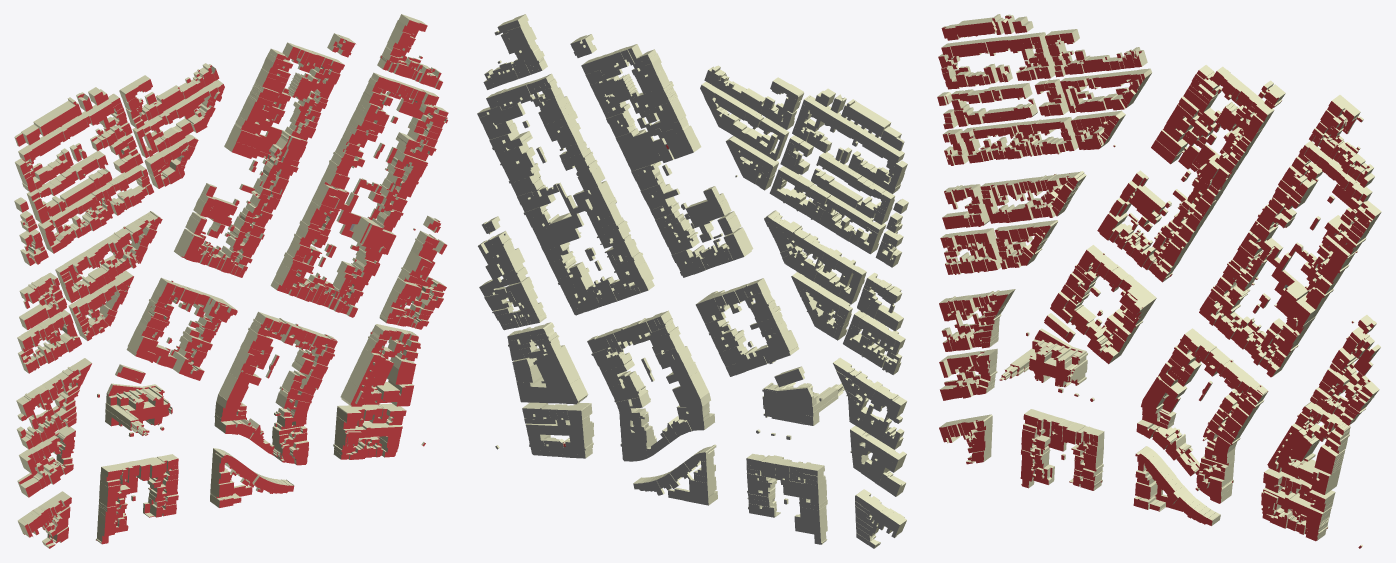
3 views of the same model, side by side, from view 1: azimuth 30°, elevation 25°; view 2: azimuth 150°, elevation 25°; view 3: azimuth 330°, elevation 25° (orthographic). The views are drawn at different scales.
Parts seen in each view (by area): view 1: NL.IMBAG.Pand.0363100012174221, NL.IMBAG.Pand.0363100012176936, NL.IMBAG.Pand.0363100012167671, NL.IMBAG.Pand.0363100012176303, NL.IMBAG.Pand.0363100012165021, NL.IMBAG.Pand.0363100012176541, NL.IMBAG.Pand.0363100012167695, NL.IMBAG.Pand.0363100012168856, NL.IMBAG.Pand.0363100012169268, NL.IMBAG.Pand.0363100012165029, NL.IMBAG.Pand.0363100012169305, NL.IMBAG.Pand.0363100012174217 (+11 smaller); view 2: NL.IMBAG.Pand.0363100012176936, NL.IMBAG.Pand.0363100012174221, NL.IMBAG.Pand.0363100012165021, NL.IMBAG.Pand.0363100012167671, NL.IMBAG.Pand.0363100012176303, NL.IMBAG.Pand.0363100012168856, NL.IMBAG.Pand.0363100012165029, NL.IMBAG.Pand.0363100012174217, NL.IMBAG.Pand.0363100012167695, NL.IMBAG.Pand.0363100012169268, NL.IMBAG.Pand.0363100012169305, NL.IMBAG.Pand.0363100012164997 (+11 smaller); view 3: NL.IMBAG.Pand.0363100012174221, NL.IMBAG.Pand.0363100012176936, NL.IMBAG.Pand.0363100012167671, NL.IMBAG.Pand.0363100012176303, NL.IMBAG.Pand.0363100012165021, NL.IMBAG.Pand.0363100012169268, NL.IMBAG.Pand.0363100012176541, NL.IMBAG.Pand.0363100012165029, NL.IMBAG.Pand.0363100012174217, NL.IMBAG.Pand.0363100012169305, NL.IMBAG.Pand.0363100012167640, NL.IMBAG.Pand.0363100012167695 (+10 smaller).
Boxes of the visible parts, x1,y1,x2,y2 form: NL.IMBAG.Pand.0363100012174221: (105, 384, 171, 435); NL.IMBAG.Pand.0363100012176936: (340, 347, 395, 406); NL.IMBAG.Pand.0363100012167671: (336, 210, 396, 254); NL.IMBAG.Pand.0363100012176303: (335, 421, 402, 447); NL.IMBAG.Pand.0363100012165021: (216, 365, 261, 408); NL.IMBAG.Pand.0363100012176541: (262, 126, 307, 161); NL.IMBAG.Pand.0363100012167695: (282, 72, 334, 100); NL.IMBAG.Pand.0363100012168856: (33, 97, 81, 136); NL.IMBAG.Pand.0363100012169268: (193, 193, 237, 226); NL.IMBAG.Pand.0363100012165029: (313, 181, 358, 212); NL.IMBAG.Pand.0363100012169305: (210, 478, 252, 507); NL.IMBAG.Pand.0363100012174217: (96, 506, 128, 544); NL.IMBAG.Pand.0363100012176936: (527, 345, 587, 404); NL.IMBAG.Pand.0363100012174221: (762, 382, 844, 424); NL.IMBAG.Pand.0363100012165021: (666, 363, 710, 406); NL.IMBAG.Pand.0363100012167671: (534, 213, 584, 251); NL.IMBAG.Pand.0363100012176303: (525, 421, 594, 445); NL.IMBAG.Pand.0363100012168856: (841, 99, 891, 137); NL.IMBAG.Pand.0363100012165029: (563, 180, 614, 215); NL.IMBAG.Pand.0363100012174217: (794, 505, 827, 544); NL.IMBAG.Pand.0363100012167695: (590, 74, 639, 103); NL.IMBAG.Pand.0363100012169268: (686, 193, 731, 227); NL.IMBAG.Pand.0363100012169305: (668, 476, 717, 505); NL.IMBAG.Pand.0363100012164997: (782, 461, 826, 500); NL.IMBAG.Pand.0363100012174221: (999, 339, 1087, 387); NL.IMBAG.Pand.0363100012176936: (1267, 423, 1325, 479); NL.IMBAG.Pand.0363100012167671: (1271, 268, 1322, 328); NL.IMBAG.Pand.0363100012176303: (1261, 488, 1331, 532); NL.IMBAG.Pand.0363100012165021: (1141, 376, 1186, 414); NL.IMBAG.Pand.0363100012169268: (1120, 180, 1165, 222); NL.IMBAG.Pand.0363100012176541: (1194, 143, 1236, 190); NL.IMBAG.Pand.0363100012165029: (1240, 231, 1292, 271); NL.IMBAG.Pand.0363100012174217: (1020, 454, 1054, 488); NL.IMBAG.Pand.0363100012169305: (1133, 481, 1183, 511); NL.IMBAG.Pand.0363100012167640: (1297, 459, 1340, 494); NL.IMBAG.Pand.0363100012167695: (1214, 101, 1264, 141).
Size of the model in its own units: 519 by 527 by 81.58.
